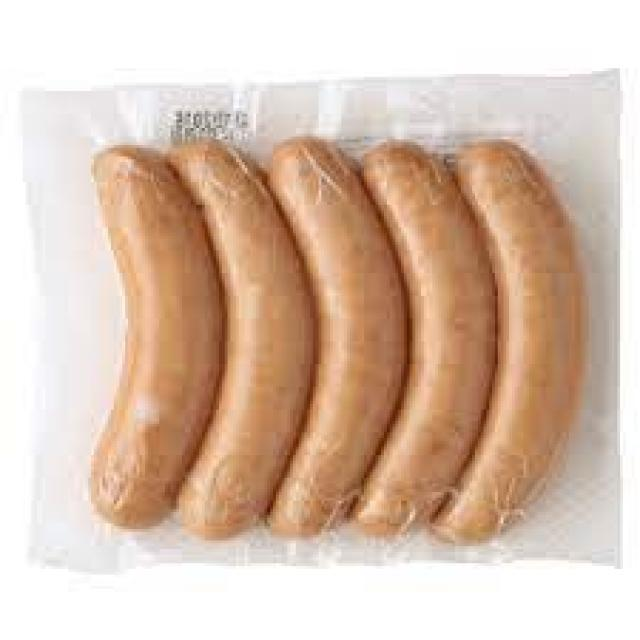sausage: (15, 86, 634, 540)
